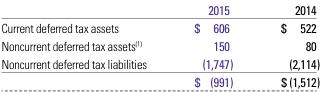table: (0, 1, 319, 89)
table column: (0, 1, 169, 89), (169, 1, 256, 89), (256, 1, 319, 89)
table column header: (0, 1, 319, 17)
table row: (0, 17, 319, 36), (0, 36, 319, 54), (0, 54, 319, 72), (0, 72, 319, 89), (0, 1, 319, 17)
